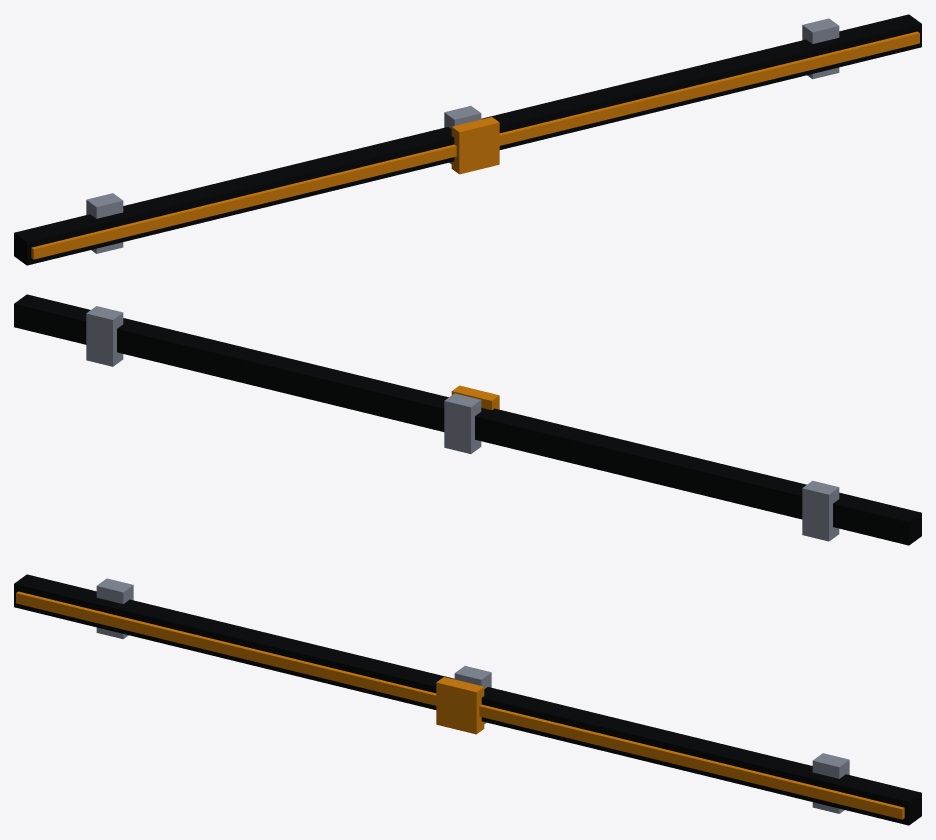
The model's file is SM_Cable_Straight_2m_Yellow.glb.
The picture shows the model from 3 angles, top to bottom: view 1: azimuth 30°, elevation 25°; view 2: azimuth 150°, elevation 25°; view 3: azimuth 330°, elevation 25°; orthographic projection.
Visible parts, largest first — view 1: SM_Cable_Straight_2m_Yellow; view 2: SM_Cable_Straight_2m_Yellow; view 3: SM_Cable_Straight_2m_Yellow.
Boxes of the visible parts, x1,y1,x2,y2 form: SM_Cable_Straight_2m_Yellow: (14, 14, 921, 265); SM_Cable_Straight_2m_Yellow: (14, 294, 921, 545); SM_Cable_Straight_2m_Yellow: (14, 574, 921, 825).
Bounding box in the file's own units: 2 × 0.1 × 0.085.
